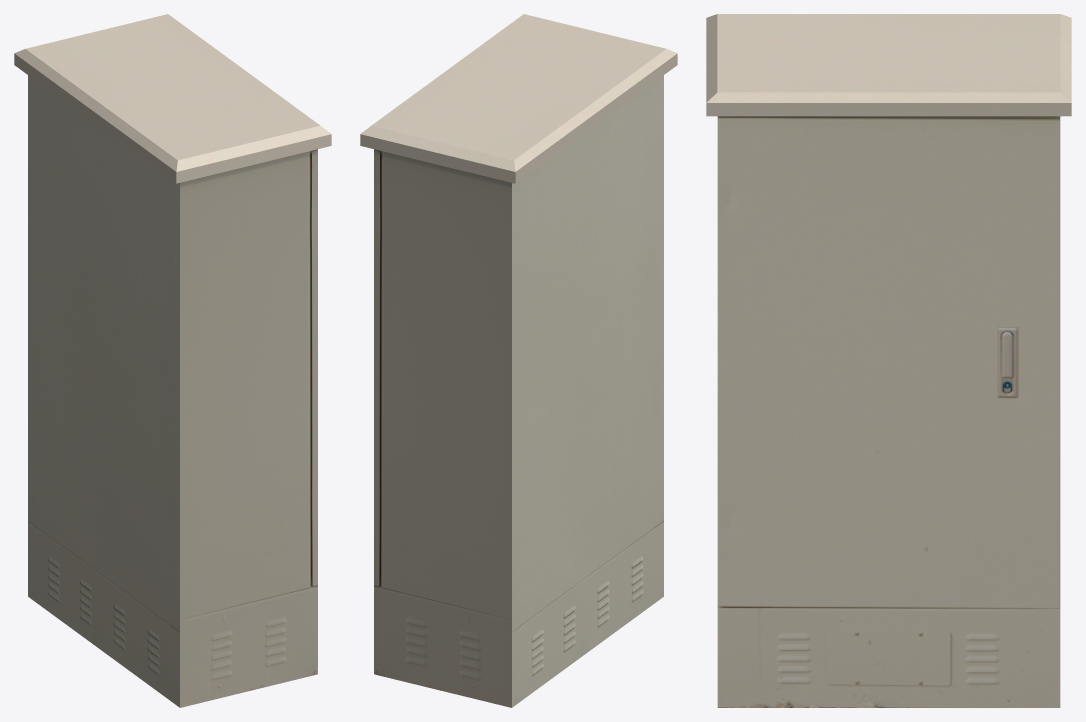
File: PeiDianXiang_DanMen.FBX
3 renders of one model, left to right at view 1: azimuth 30°, elevation 25°; view 2: azimuth 150°, elevation 25°; view 3: azimuth 270°, elevation 25°, orthographic. The views are drawn at different scales.
Visible parts, largest first — view 1: Box151; view 2: Box151; view 3: Box151.
Part boxes in pixels (x1,y1,x2,y2): Box151: (14, 14, 331, 707); Box151: (360, 14, 677, 707); Box151: (706, 14, 1071, 707).
Bounding box in the file's own units: 40.12 × 135 × 72.56.
